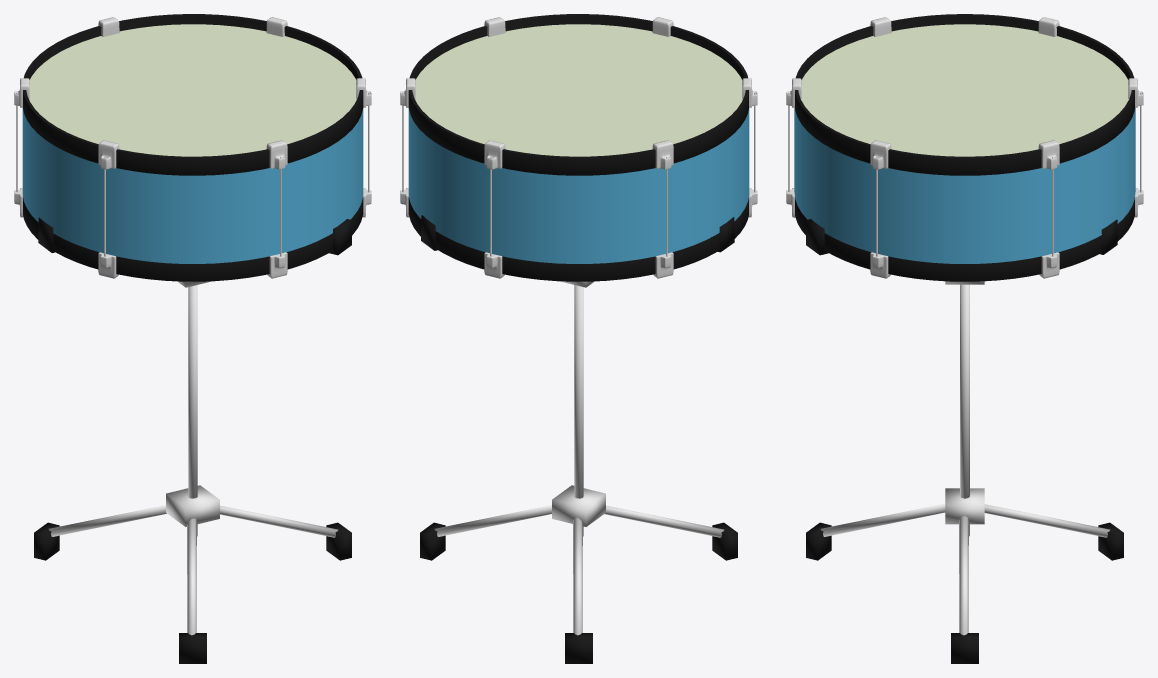
Rendered from Snare Drum with Stand.fbx.
3 renders of one model, left to right at view 1: azimuth 30°, elevation 25°; view 2: azimuth 150°, elevation 25°; view 3: azimuth 270°, elevation 25°, orthographic.
Parts seen in each view (by area): view 1: Snare Drum, Floor Stand, Cylinder, Cube.002, Cube; view 2: Snare Drum, Floor Stand, Cylinder, Cube.002, Cube; view 3: Snare Drum, Floor Stand, Cylinder, Cube.002, Cube.
Boxes of the visible parts, x1,y1,x2,y2 form: Snare Drum: [14, 14, 371, 281]; Floor Stand: [34, 505, 351, 663]; Cylinder: [188, 285, 197, 536]; Cube.002: [166, 485, 219, 526]; Cube: [38, 217, 351, 255]; Snare Drum: [400, 14, 757, 281]; Floor Stand: [420, 505, 737, 663]; Cylinder: [574, 285, 583, 536]; Cube.002: [552, 485, 605, 526]; Cube: [421, 215, 734, 252]; Snare Drum: [786, 14, 1143, 281]; Floor Stand: [806, 503, 1123, 663]; Cylinder: [960, 284, 969, 536]; Cube.002: [945, 488, 984, 524]; Cube: [806, 219, 1117, 255].
Bounding box in the file's own units: 35.57 × 57.52 × 36.68.
